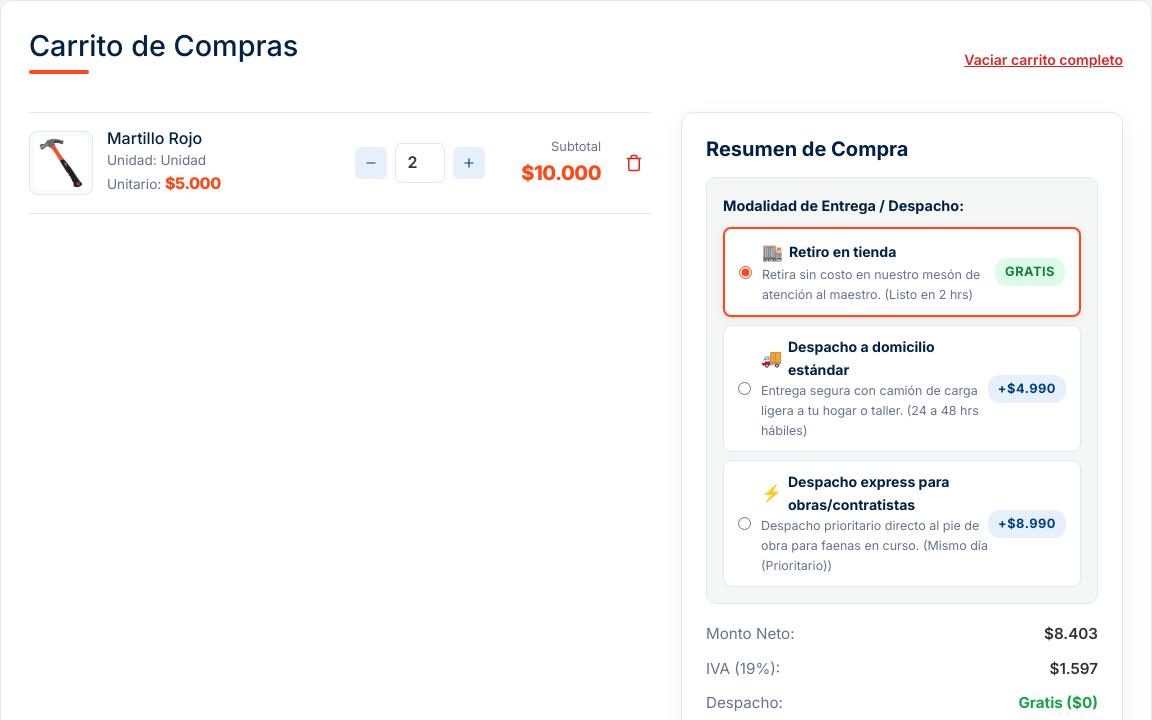
Test: Pruebas 4 y 5: Carrito de Compras, Contador y Totales › debe eliminar un producto del carrito y actualizar el total a pagar
Check: the heading "Martillo Rojo" is shown, box [107, 128, 202, 148]
Check: the text "$10.000" is shown, box [521, 161, 601, 185]
# Eliminar producto
Click the button named "Eliminar Martillo Rojo del carrito".
click(634, 163)  # box [617, 146, 651, 180]
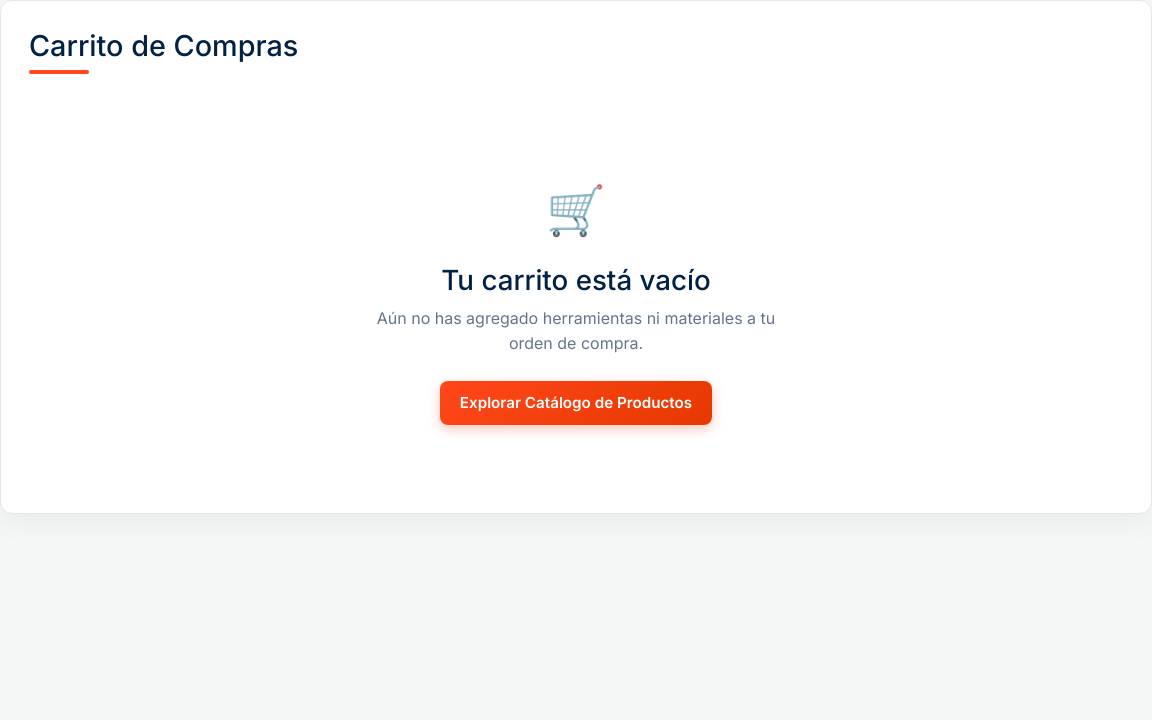
Check: the heading "Tu carrito está vacío" is shown, box [441, 263, 711, 297]
Check: the heading "Martillo Rojo" is gone
